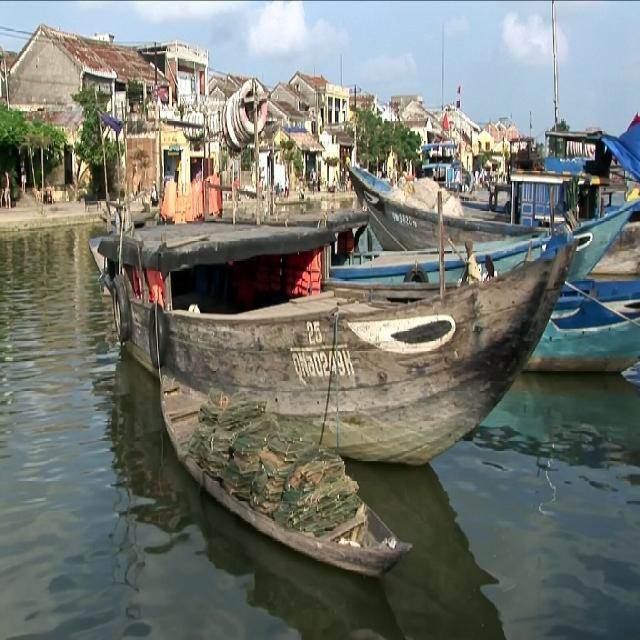boat: (79, 169, 589, 477), (154, 368, 414, 592)
